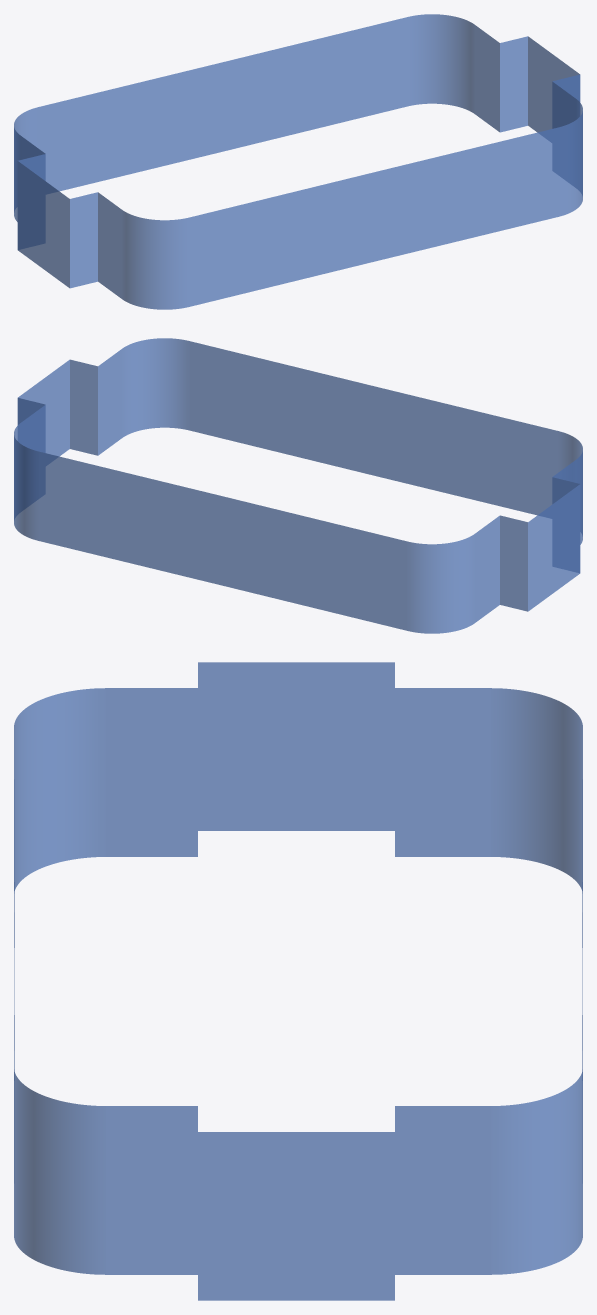
File: SoccerWallWithConner.fbx
3 renders of one model, top to bottom at view 1: azimuth 30°, elevation 25°; view 2: azimuth 150°, elevation 25°; view 3: azimuth 270°, elevation 25°, orthographic. The views are drawn at different scales.
Visible parts, largest first — view 1: Model; view 2: Model; view 3: Model.
Part boxes in pixels (box(x1,y1,x2,y2)): Model: box(14, 14, 582, 309); Model: box(14, 338, 582, 633); Model: box(14, 662, 582, 1300).
Size of the model in its own units: 4.72 by 0.79 by 2.41.
